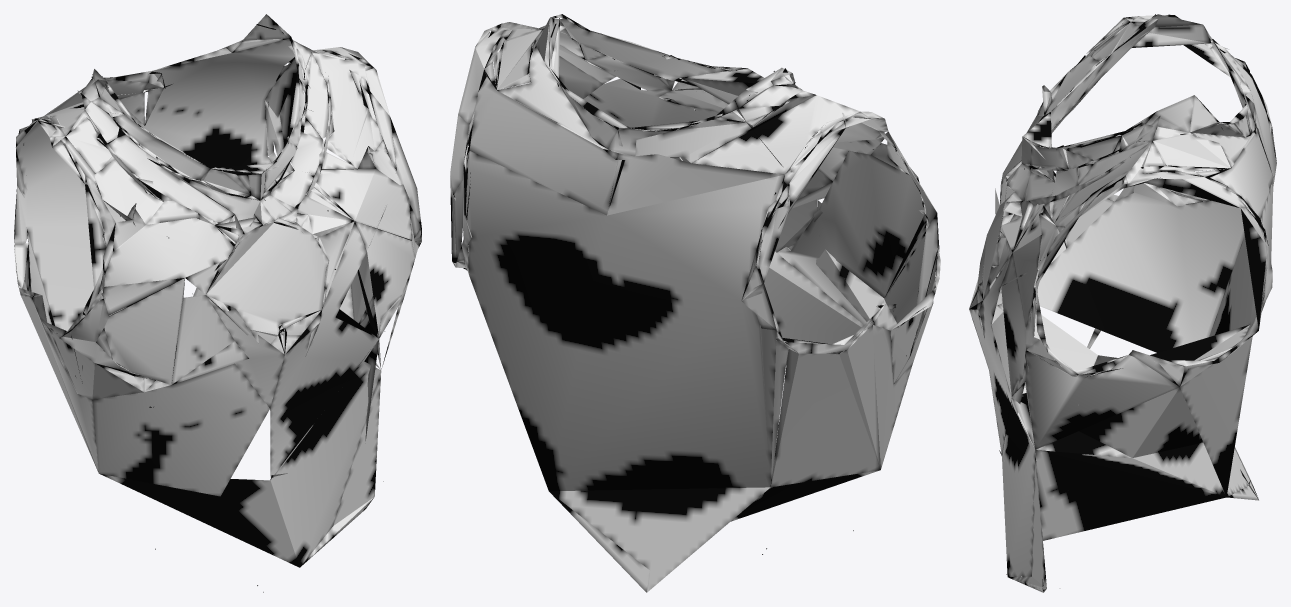
The model's file is vampire_chestplate_v3_lc_LOD3.glb.
3 renders of one model, left to right at view 1: azimuth 30°, elevation 25°; view 2: azimuth 150°, elevation 25°; view 3: azimuth 270°, elevation 25°, orthographic. The views are drawn at different scales.
Parts seen in each view (by area): view 1: vampire_chestplate_v3_lc_LOD3; view 2: vampire_chestplate_v3_lc_LOD3; view 3: vampire_chestplate_v3_lc_LOD3.
Part boxes in pixels (x1,y1,x2,y2): vampire_chestplate_v3_lc_LOD3: [14, 14, 421, 592]; vampire_chestplate_v3_lc_LOD3: [450, 14, 940, 592]; vampire_chestplate_v3_lc_LOD3: [969, 14, 1276, 592].
Bounding box in the file's own units: 0.7216 × 0.9521 × 0.5036.
Materials: 1 (1 with a texture image).
